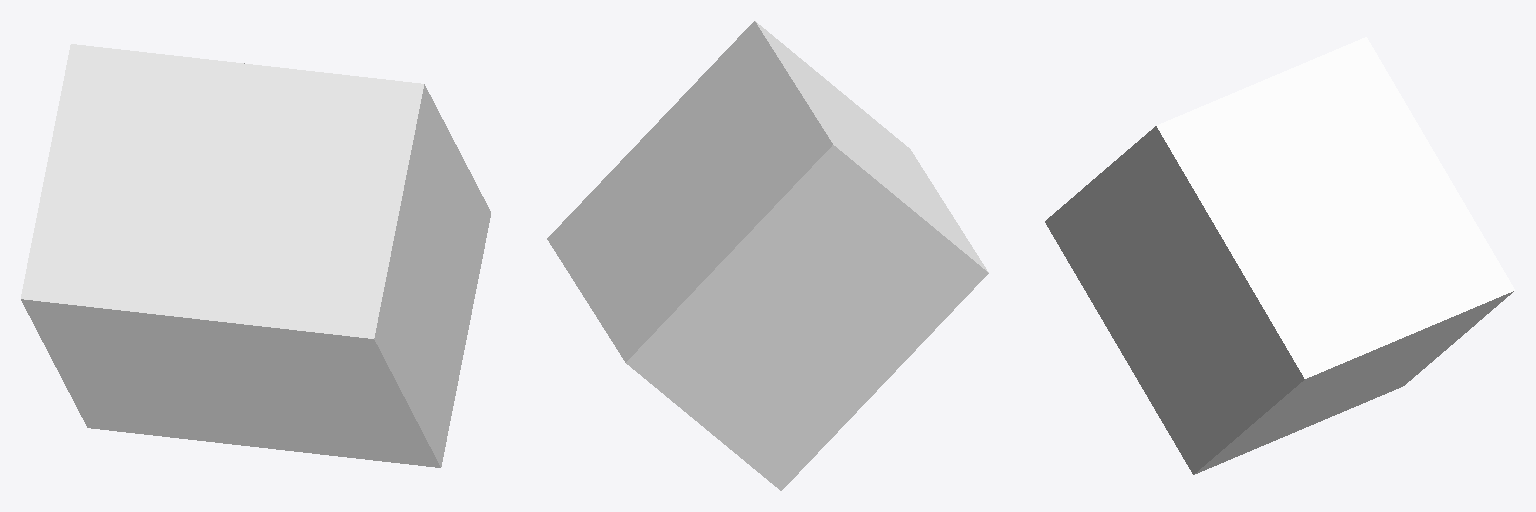
robot.urdf — cube_gripper_left.urdf:
<?xml version="1.0" ?>
<robot name="cube_gripper_left.urdf">
  <link name="world">
  </link>
  
  <link name="baseLink">
    <contact>
      <lateral_friction value="1.0"/>
      <spinning_friction value="0.3"/>
      <inertia_scaling value="3.0"/>
    </contact>
    <inertial>
      <origin rpy="0 0 0" xyz="0 0 0"/>
       <mass value=".1"/>
       <inertia ixx="1" ixy="0" ixz="0" iyy="1" iyz="0" izz="1"/>
    </inertial>
    <visual>
      <origin rpy="0 0.785398 0.785398" xyz="0 0 0"/>
      <geometry>
				<mesh filename="cube.obj" scale=".05 .05 .05"/>
      </geometry>
       <material name="white">
        <color rgba="1 1 1 1"/>
      </material>
    </visual>
    <collision>
      <origin rpy="0 0.785398 0.785398" xyz="0 0 0"/>
      <geometry>
	 	<box size=".05 .05 .05"/>
      </geometry>
    </collision>
  </link>
  
  <joint name="cube_joint" type="prismatic">
    <parent link="world"/>
    <child link="baseLink"/>
    <origin rpy="0 0 0" xyz="0 0 0"/>
    <axis xyz="1 0 0"/>
    <limit effort="300" lower="-2.96705972839" upper="2.96705972839" velocity="10"/>
    <dynamics damping="0.0"/>
  </joint>
</robot>


--- What the picture shows (computed from the rendered views, not written in the file) ---
Views: 3 orthographic renders of the robot side by side, from view 1: azimuth 30°, elevation 25°; view 2: azimuth 150°, elevation 25°; view 3: azimuth 270°, elevation 25°.
Robot: cube_gripper_left.urdf — 2 links, 1 joints (1 prismatic); root link world; default pose: every joint at zero.
Visible links, largest first — view 1: baseLink; view 2: baseLink; view 3: baseLink.
Link boxes in pixels (bbox=[...]): baseLink: bbox=[21, 44, 490, 467]; baseLink: bbox=[547, 21, 988, 490]; baseLink: bbox=[1045, 37, 1514, 474].
Size in the robot's own frame: 0.0069 by 0.0069 by 0.0054 metres.
Meshes: 1 distinct files referenced, 1 mesh visuals loaded (1 OBJ).